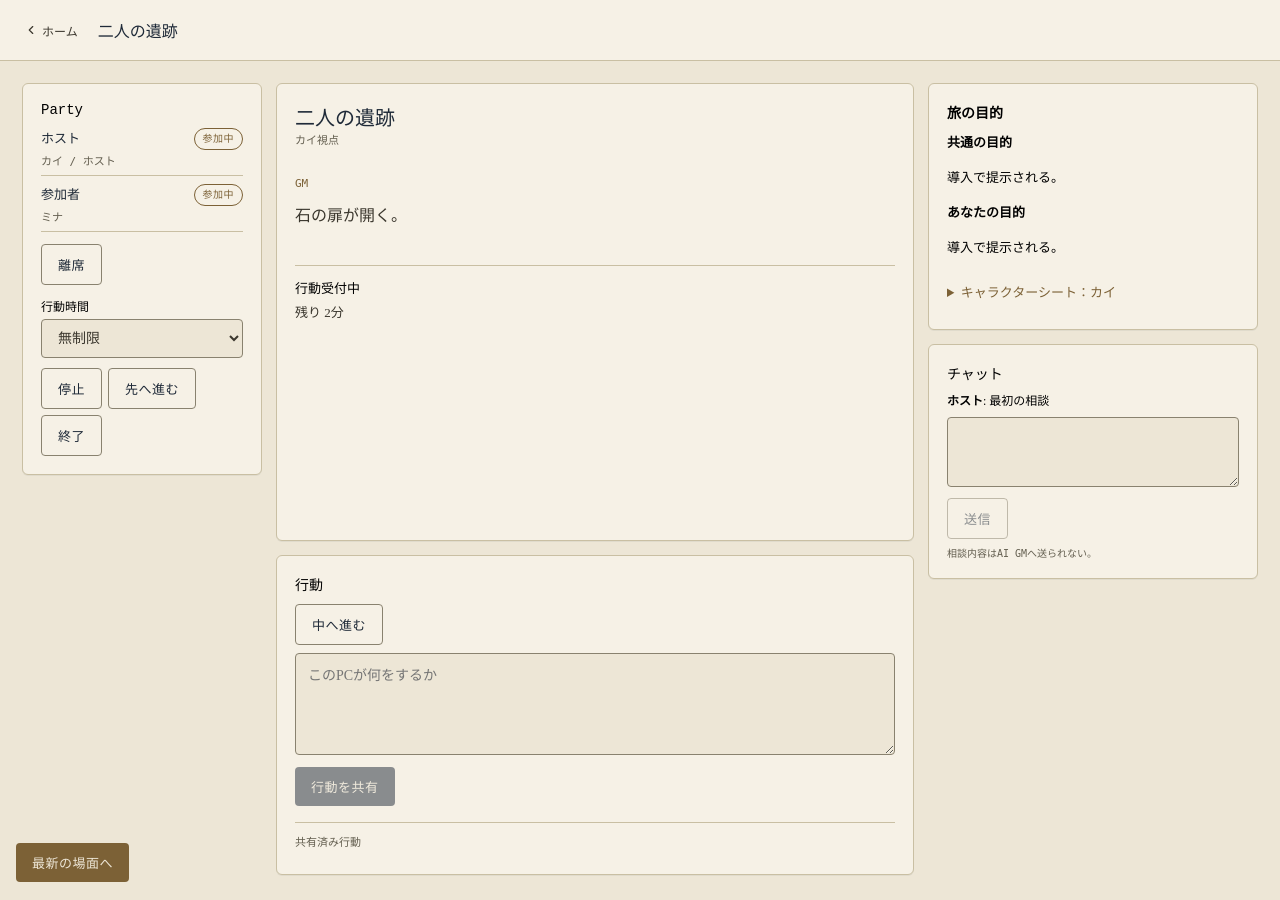
Test: PartyPlay › polls Party chat after the last sequence and appends only new messages
The width and height of the screenshot is (1280, 900).
Expected: the text "ホスト: 最初の相談" is shown, top-left (947, 394), bottom-right (1049, 408)
Step 1. Type "送信して更新" into the text box named "Partyチャット" → (1093, 452), box top-left (947, 417), bottom-right (1239, 487)
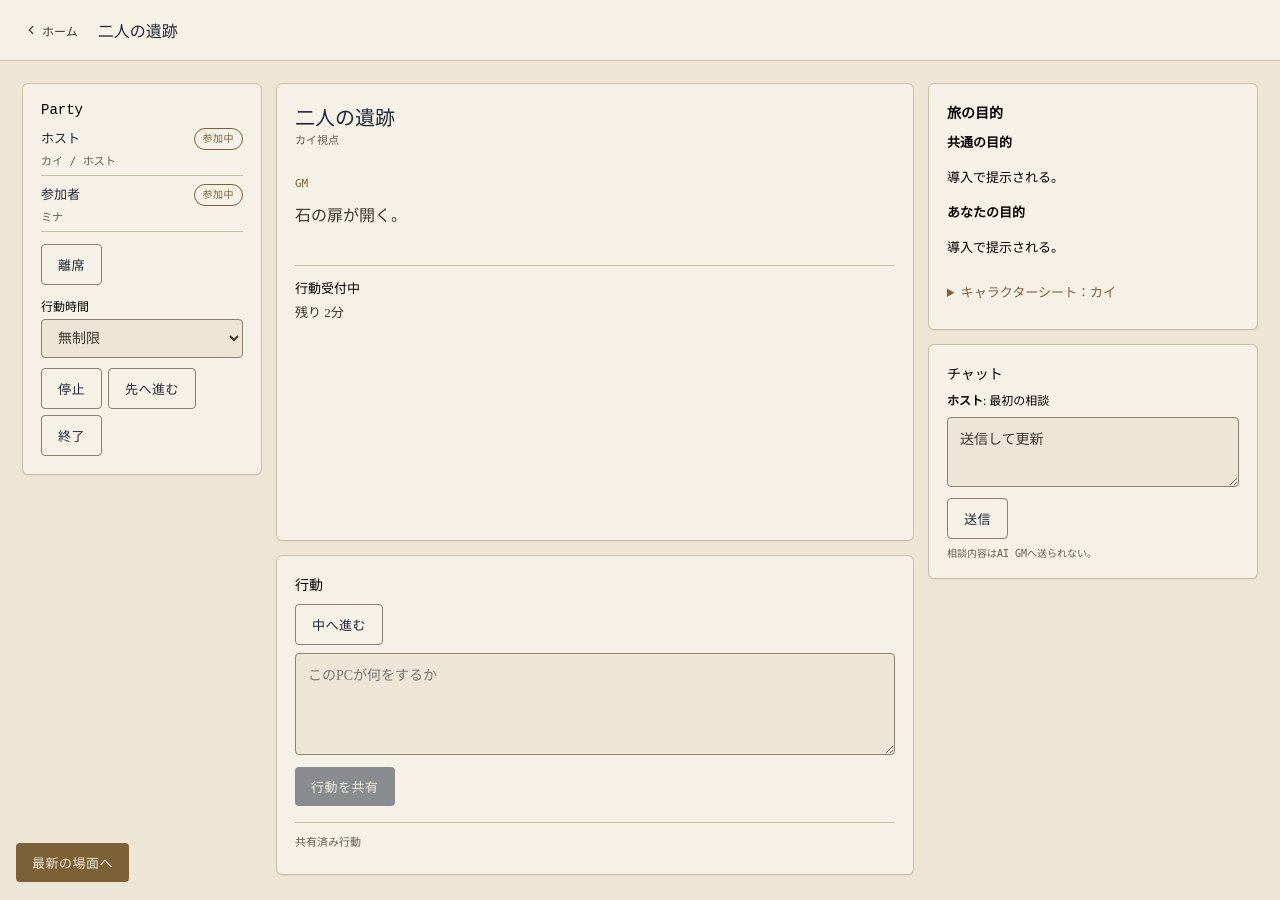
Step 2. Click the button "送信" → (978, 519), box top-left (947, 498), bottom-right (1008, 539)
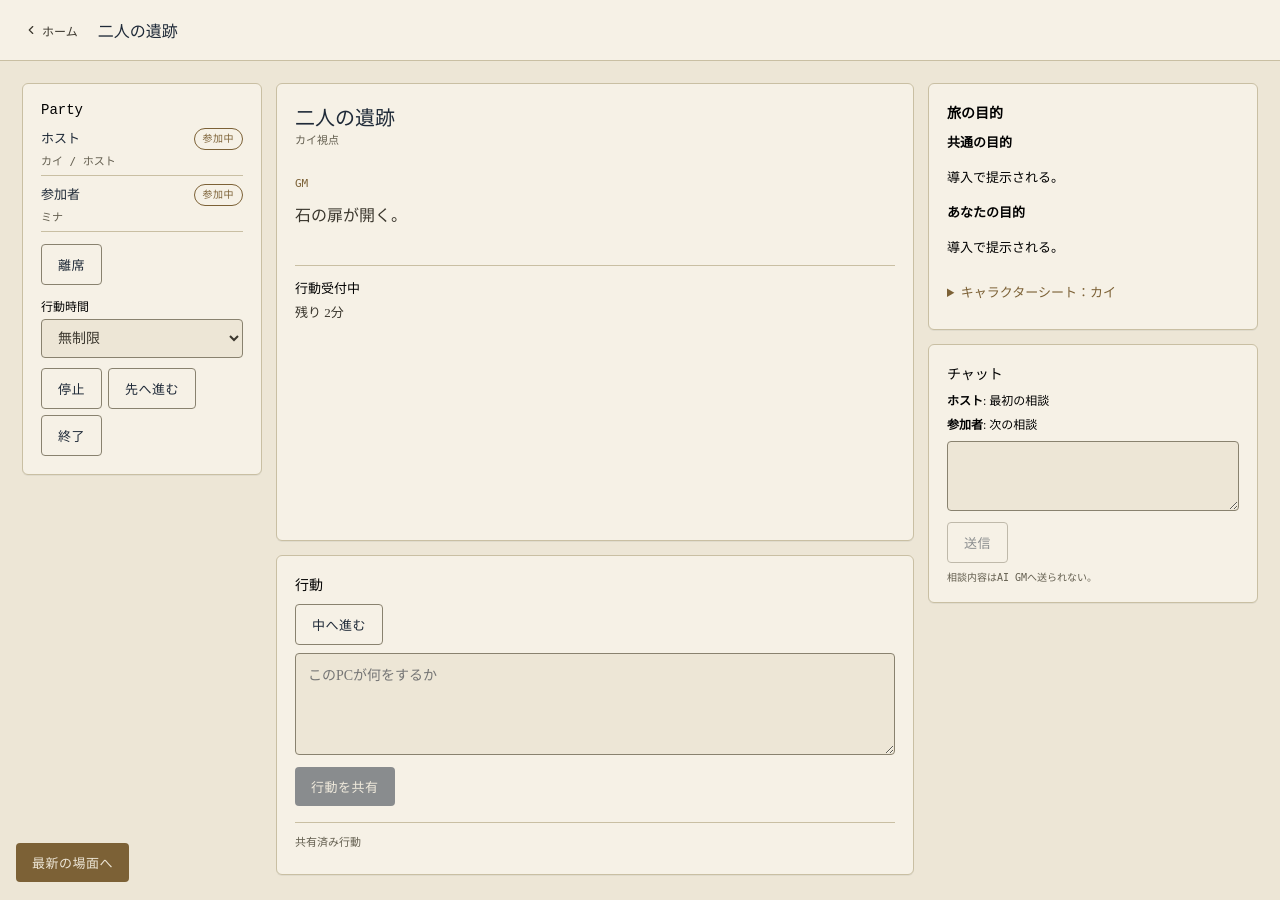
Expected: the text "ホスト: 最初の相談" is shown, top-left (947, 394), bottom-right (1049, 408)
Expected: the text "参加者: 次の相談" is shown, top-left (947, 418), bottom-right (1037, 432)
